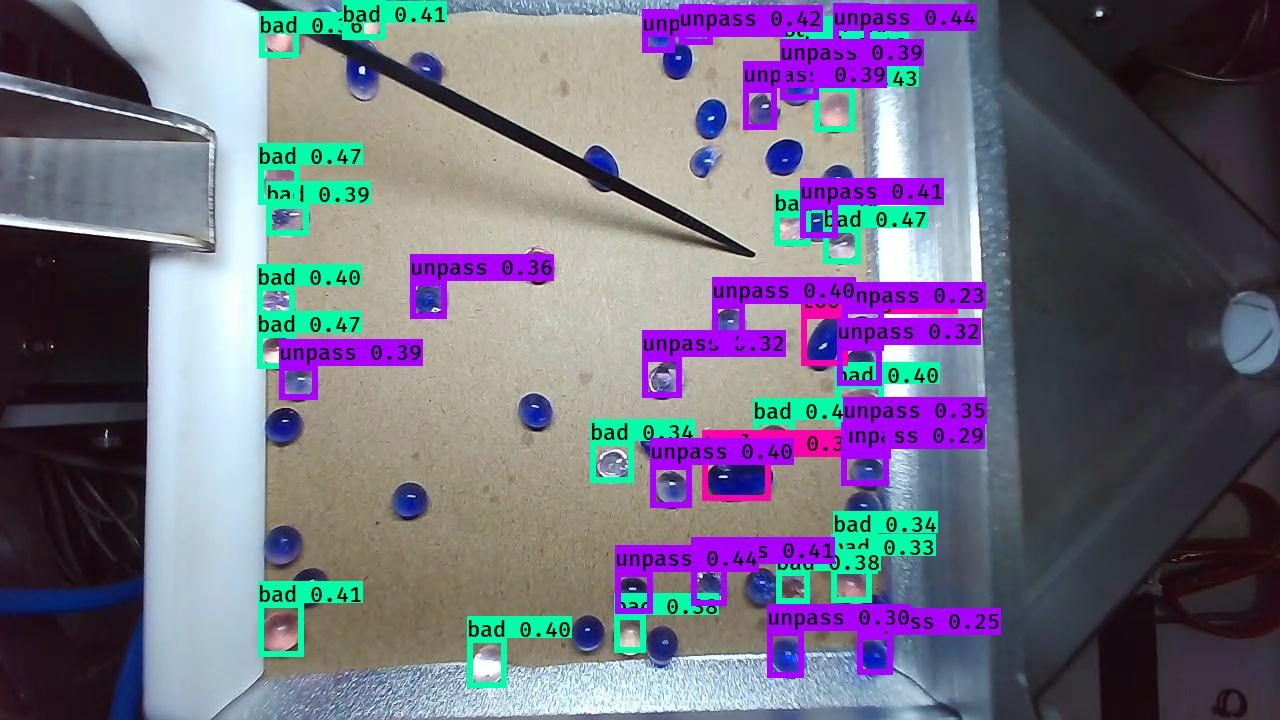bad: (256, 609, 309, 656), (838, 387, 890, 433), (784, 17, 827, 63), (834, 532, 882, 572), (468, 642, 509, 687), (772, 569, 817, 610), (262, 19, 307, 59), (817, 92, 857, 133), (267, 203, 312, 239), (258, 287, 298, 327), (345, 1, 385, 40), (262, 167, 303, 205), (754, 424, 795, 462), (520, 245, 557, 287), (612, 615, 649, 657), (832, 569, 872, 606), (836, 51, 873, 90), (773, 209, 810, 247), (262, 333, 299, 370), (594, 447, 631, 481), (825, 231, 859, 266), (805, 53, 840, 87)
defact: (745, 90, 783, 130), (685, 146, 727, 180)
pass: (641, 422, 683, 464), (409, 279, 449, 323), (514, 392, 557, 432), (642, 625, 681, 669), (263, 408, 305, 447), (766, 136, 804, 178), (290, 569, 331, 607), (571, 612, 607, 655), (695, 99, 729, 144), (390, 483, 430, 520), (659, 45, 695, 82)
toolong: (707, 459, 775, 504), (801, 312, 848, 371)
unpass: (831, 7, 875, 55), (766, 637, 810, 681), (261, 523, 304, 568), (645, 360, 690, 403), (688, 566, 730, 611), (850, 637, 895, 678), (612, 574, 652, 616), (804, 203, 843, 246), (841, 351, 882, 391), (843, 314, 885, 353), (845, 492, 886, 531), (653, 470, 692, 510), (675, 6, 714, 45), (848, 454, 890, 489), (279, 366, 319, 402), (779, 69, 815, 109), (818, 163, 854, 203), (713, 307, 749, 346), (844, 430, 890, 458), (858, 596, 892, 632), (645, 15, 677, 51)
